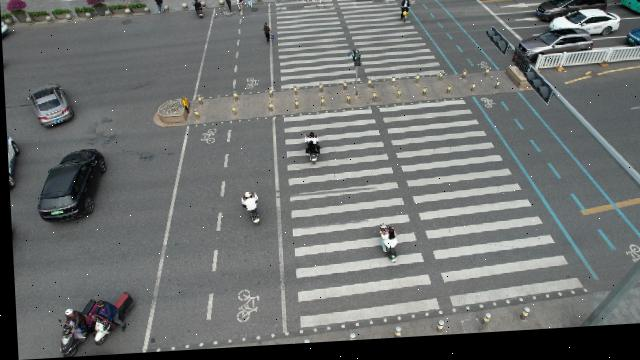non-motor-vehicle: (52, 304, 96, 355), (90, 299, 136, 342), (373, 222, 403, 273), (233, 191, 264, 235), (304, 135, 322, 168), (399, 3, 410, 27), (190, 1, 203, 21)
person: (260, 25, 276, 48), (221, 0, 234, 18), (233, 0, 245, 17), (245, 0, 256, 12), (306, 0, 316, 8), (318, 0, 325, 9)
